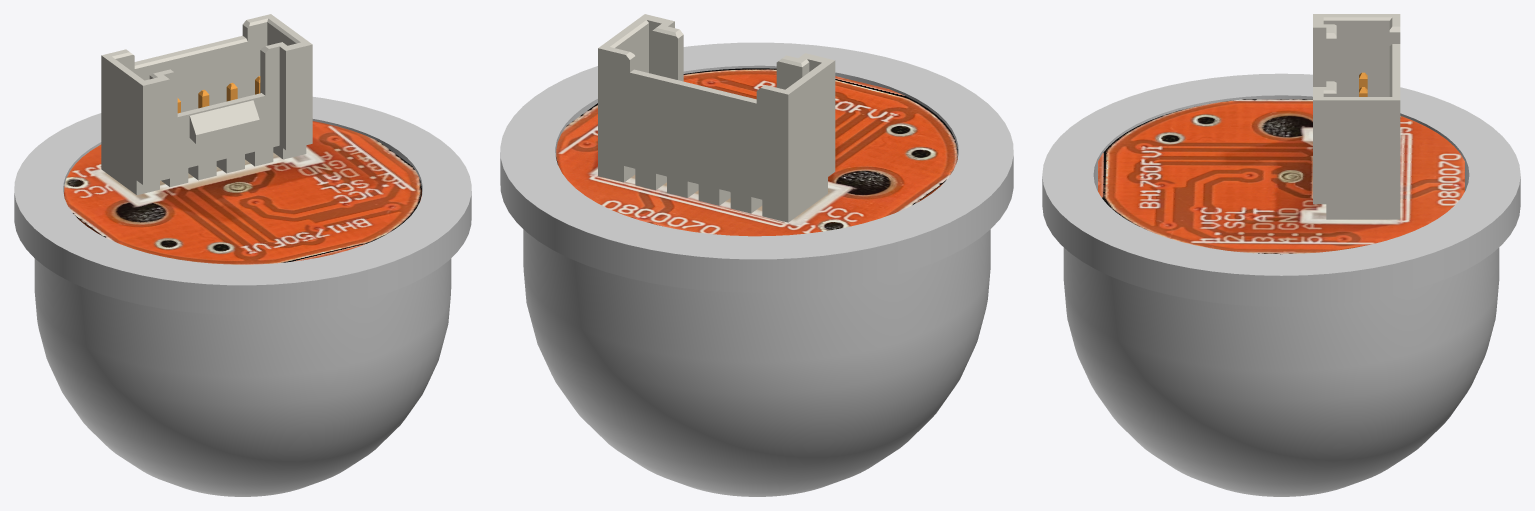
File: light.glb
3 renders of one model, left to right at view 1: azimuth 30°, elevation 25°; view 2: azimuth 150°, elevation 25°; view 3: azimuth 270°, elevation 25°, orthographic. The views are drawn at different scales.
Parts seen in each view (by area): view 1: light; view 2: light; view 3: light.
Part boxes in pixels (<box>): light: <box>14,14,471,496</box>; light: <box>500,14,1013,496</box>; light: <box>1042,14,1520,496</box>.
Bounding box in the file's own units: 0.028 × 0.0271 × 0.028.
4 materials, 1 textured.
